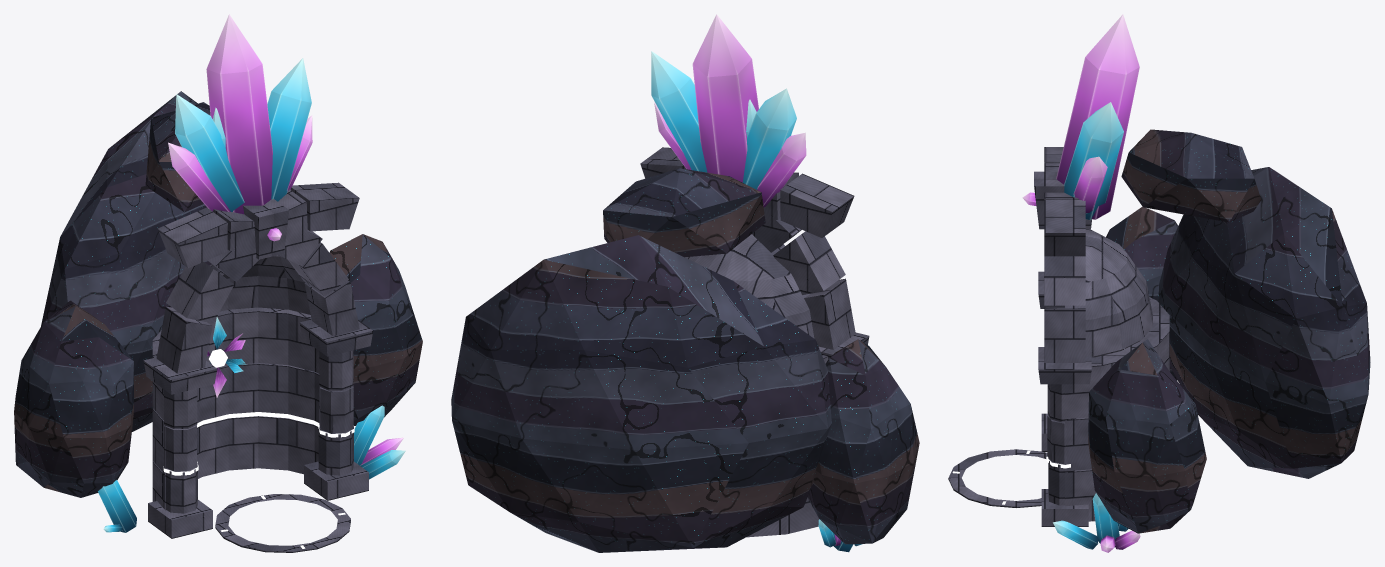
The model's file is prism_vault.glb.
3 renders of one model, left to right at view 1: azimuth 30°, elevation 25°; view 2: azimuth 150°, elevation 25°; view 3: azimuth 270°, elevation 25°, orthographic. The views are drawn at different scales.
Parts seen in each view (by area): view 1: prism_vault; view 2: prism_vault; view 3: prism_vault.
Boxes of the visible parts, x1,y1,x2,y2 form: prism_vault: (14,14,422,552); prism_vault: (451,14,919,552); prism_vault: (948,14,1370,552).
Size of the model in its own units: 7.81 by 9.19 by 7.34.
5 materials, 4 textured.
